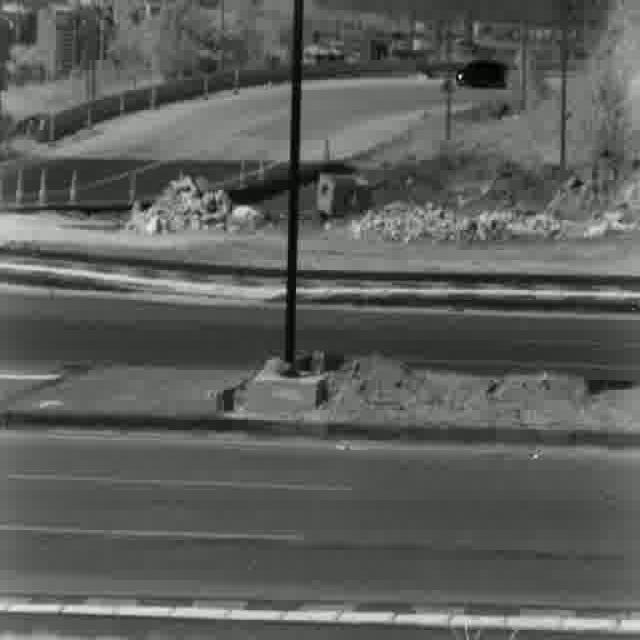Car: (454, 60, 511, 92)
